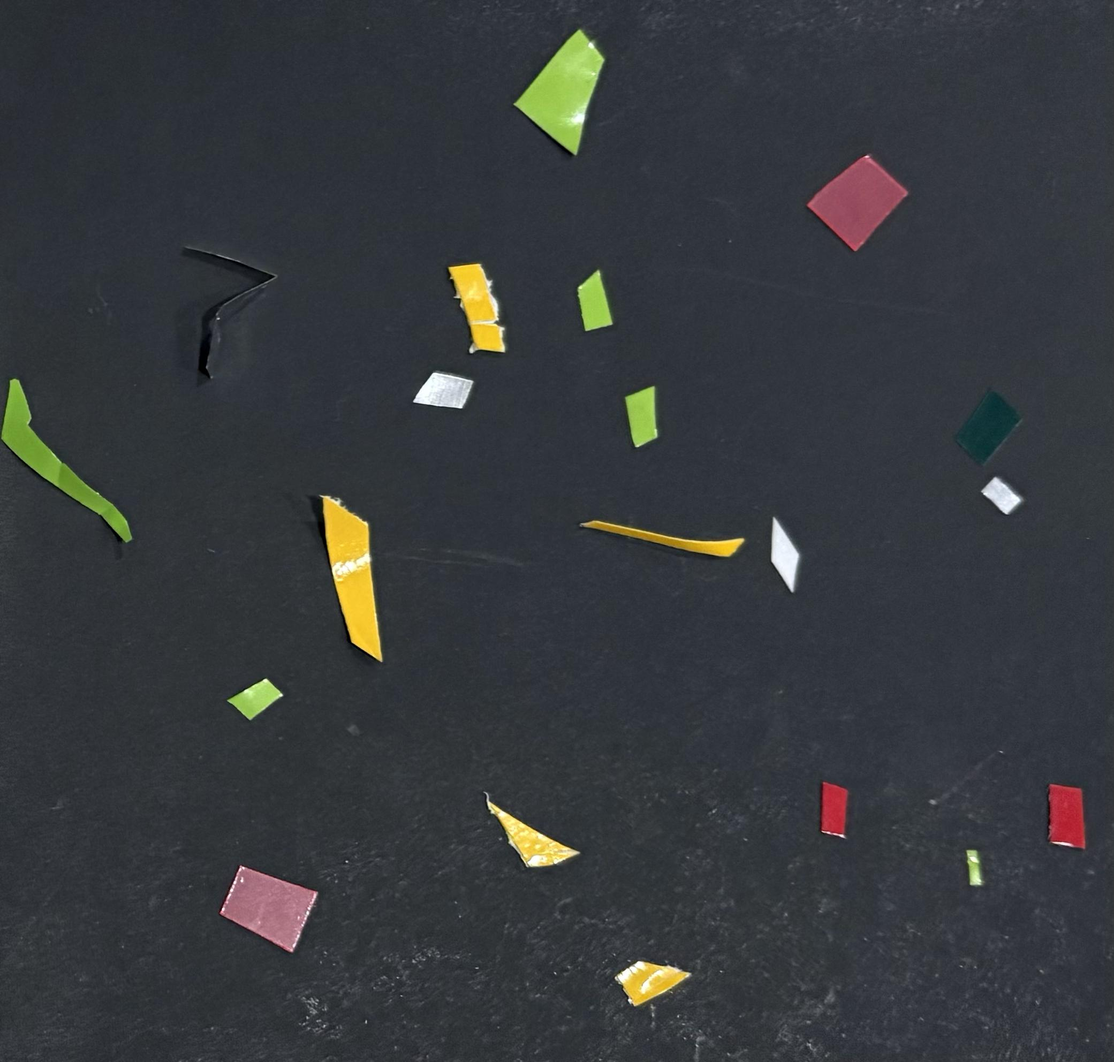Microplastic Particle: (7, 366, 162, 557), (509, 16, 642, 170), (171, 228, 287, 387), (794, 137, 935, 261), (567, 487, 757, 575), (309, 484, 396, 671), (203, 851, 330, 955), (468, 785, 605, 880), (441, 266, 541, 360), (935, 389, 1035, 473), (1030, 765, 1094, 858), (601, 958, 705, 1013), (557, 266, 628, 341), (403, 362, 485, 419), (769, 507, 817, 601), (812, 771, 865, 848), (221, 669, 289, 728), (626, 378, 675, 453), (969, 473, 1037, 517), (956, 839, 990, 896)
